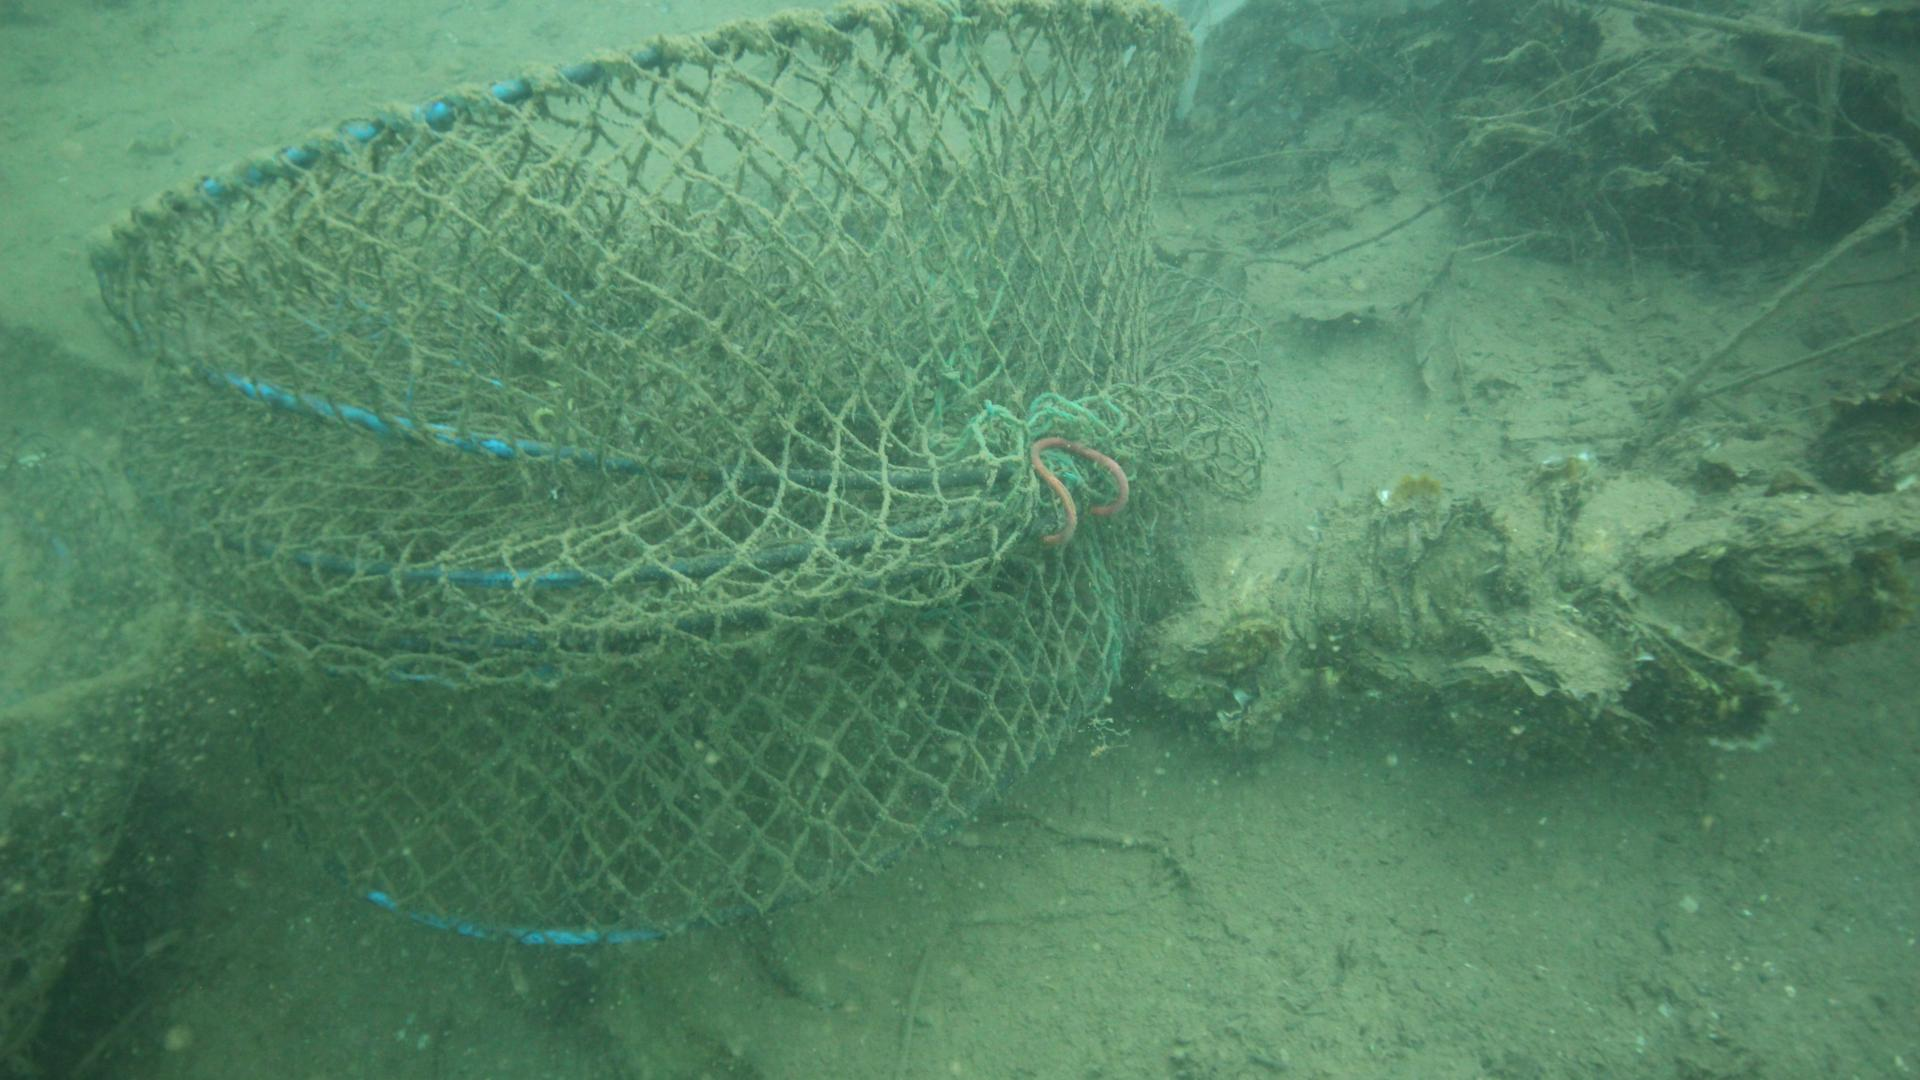spring fish trap: (80, 0, 1269, 947)
